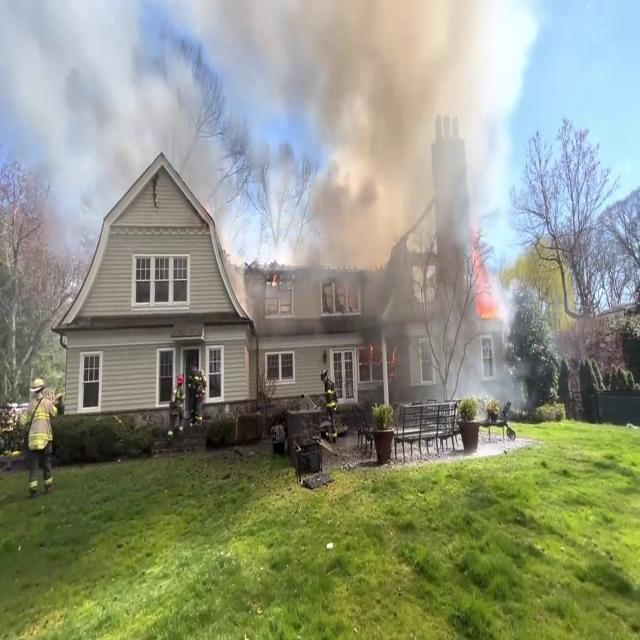Smoke: (290, 0, 492, 396), (33, 3, 153, 300)
